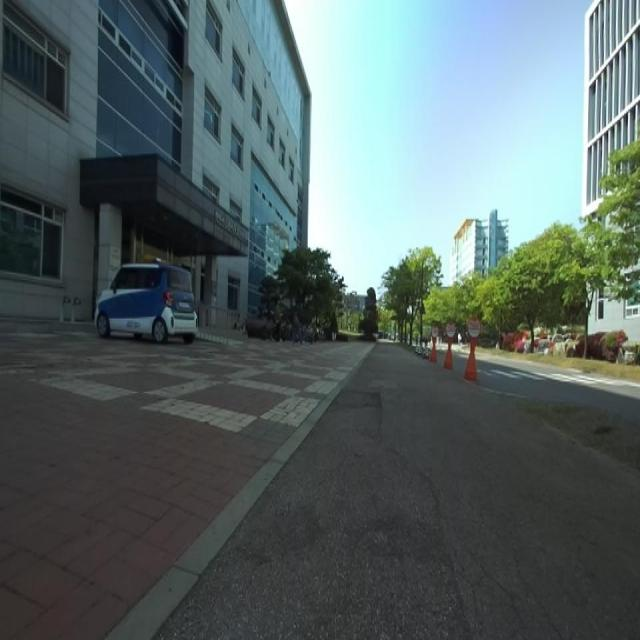sidewalk: (158, 344, 640, 639), (0, 328, 372, 639)
